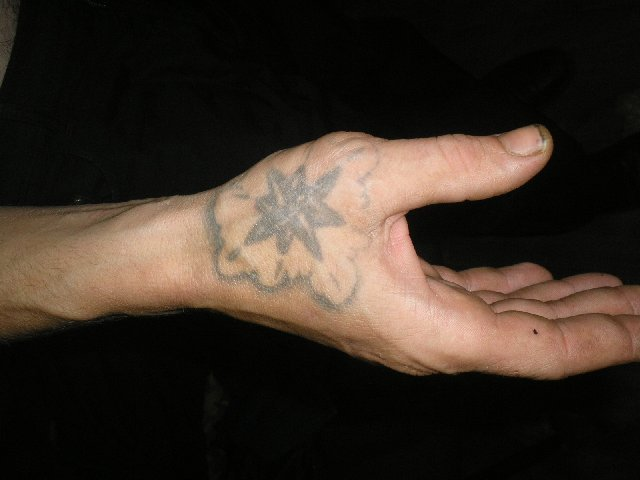tatu4_zvezda: (239, 164, 354, 270)
